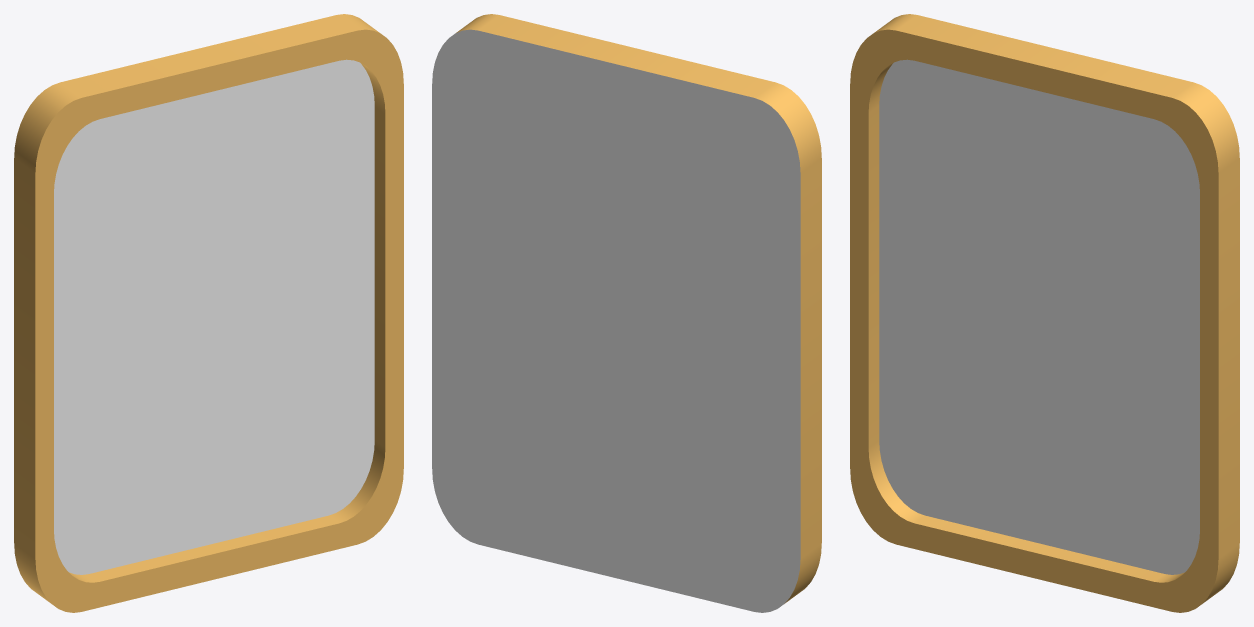
File: mirror_draco.glb
3 renders of one model, left to right at view 1: azimuth 30°, elevation 25°; view 2: azimuth 150°, elevation 25°; view 3: azimuth 330°, elevation 25°, orthographic.
Parts seen in each view (by area): view 1: Mirror.001, Frame; view 2: Mirror.001, Frame; view 3: Mirror.001, Frame.
Part boxes in pixels (bbox=[...]): Mirror.001: bbox=[54, 59, 374, 574]; Frame: bbox=[14, 14, 403, 612]; Mirror.001: bbox=[432, 29, 800, 612]; Frame: bbox=[456, 14, 821, 603]; Mirror.001: bbox=[879, 59, 1199, 574]; Frame: bbox=[850, 14, 1239, 612].
Bounding box in the file's own units: 0.5612 × 0.7482 × 0.0561.
